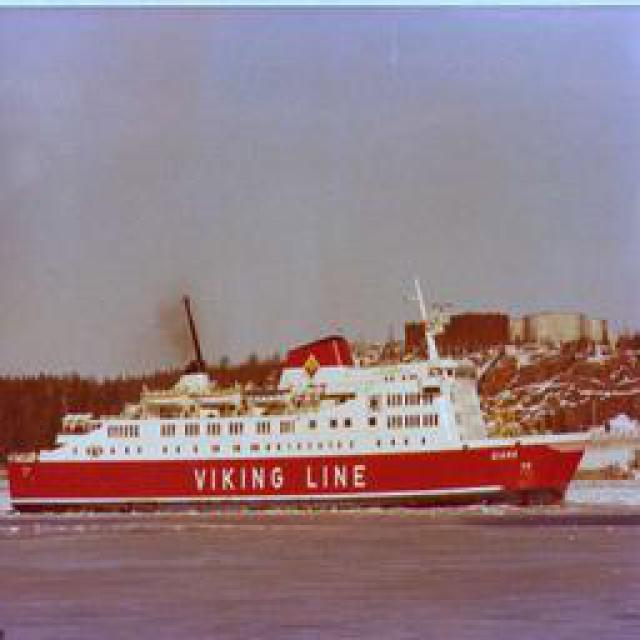Ship: (10, 331, 588, 511)
